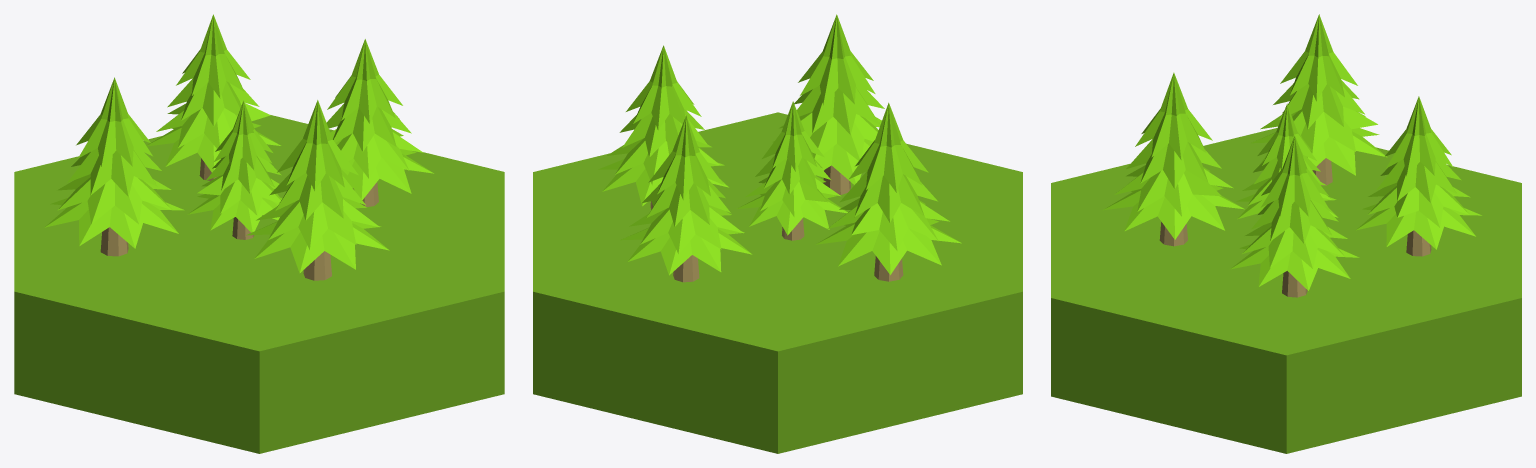
Rendered from Pinos_Altos.fbx.
The picture shows the model from 3 angles, left to right: view 1: azimuth 30°, elevation 25°; view 2: azimuth 150°, elevation 25°; view 3: azimuth 270°, elevation 25°; orthographic projection. The views are drawn at different scales.
Parts seen in each view (by area): view 1: Pinos_Altos; view 2: Pinos_Altos; view 3: Pinos_Altos.
Boxes of the visible parts, <box> form: Pinos_Altos: <box>14,14,504,453</box>; Pinos_Altos: <box>533,14,1022,453</box>; Pinos_Altos: <box>1051,14,1521,453</box>.
Bounding box in the file's own units: 200 × 108 × 173.
